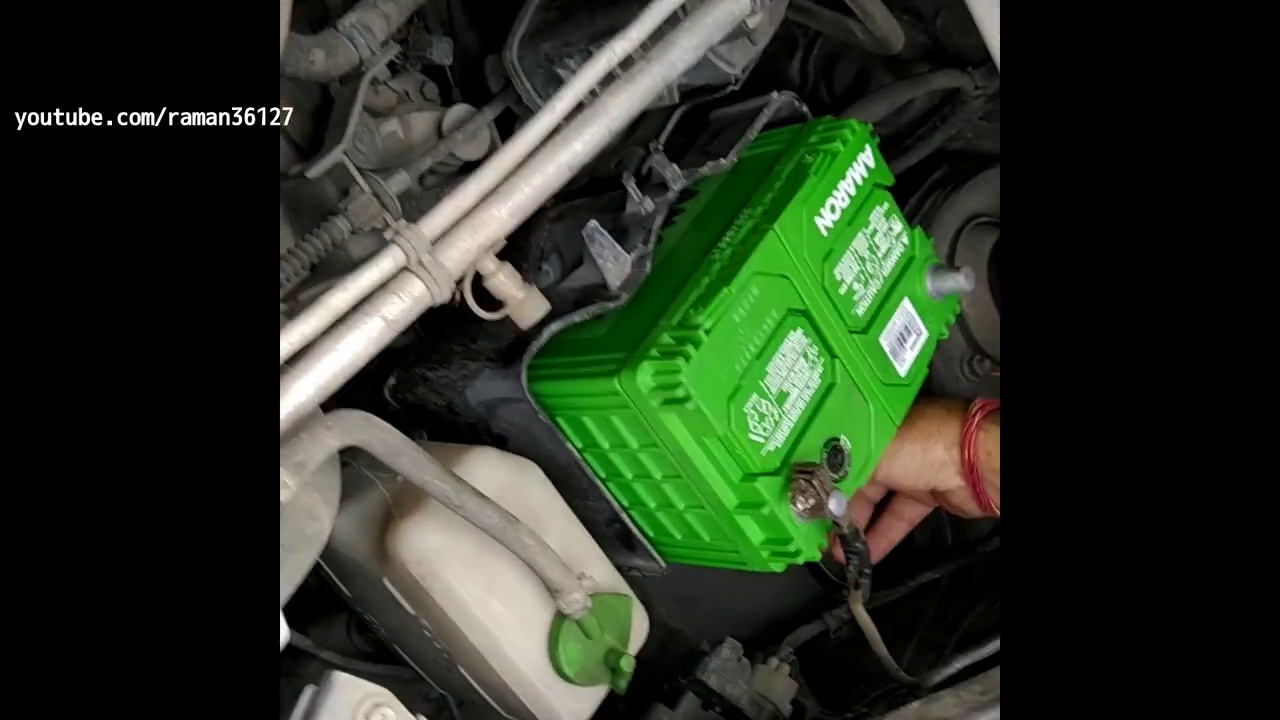battery: (650, 114, 972, 573)
